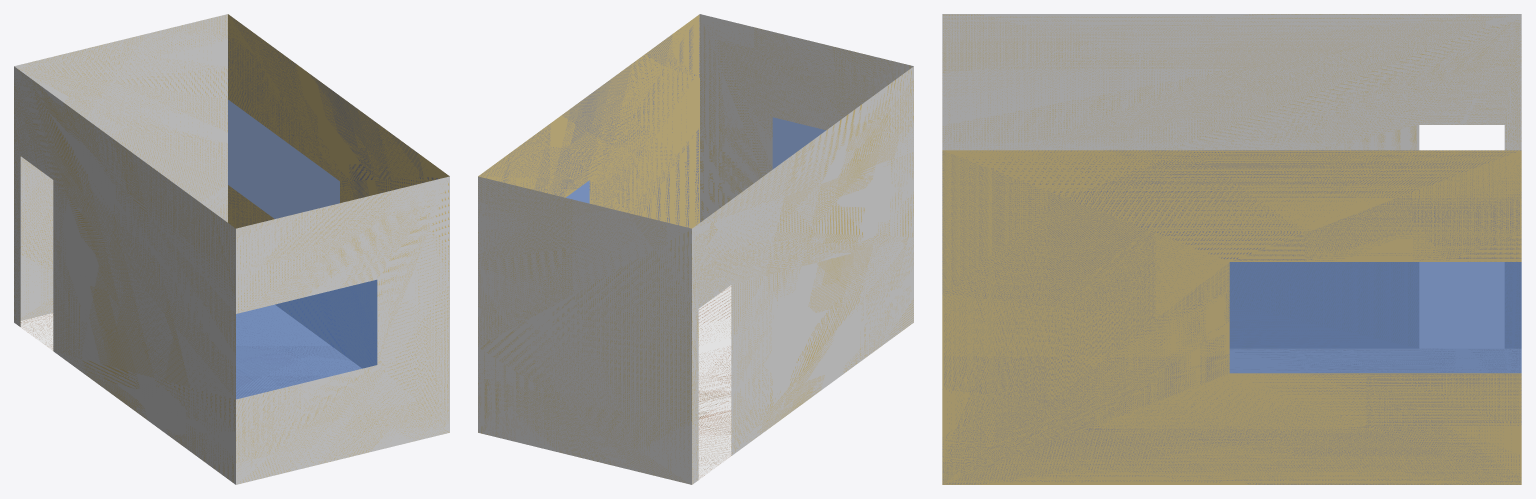
Rendered from DES009.obj.
The picture shows the model from 3 angles, left to right: view 1: azimuth 30°, elevation 25°; view 2: azimuth 150°, elevation 25°; view 3: azimuth 270°, elevation 25°; orthographic projection. The views are drawn at different scales.
Visible parts, largest first — view 1: Mesh1 DES009 Model; view 2: Mesh1 DES009 Model; view 3: Mesh1 DES009 Model.
Boxes of the visible parts, x1,y1,x2,y2 form: Mesh1 DES009 Model: [14, 14, 449, 484]; Mesh1 DES009 Model: [478, 14, 913, 484]; Mesh1 DES009 Model: [942, 14, 1521, 484].
Size of the model in its own units: 2.62 by 3 by 4.7.
5 materials, 1 textured.
